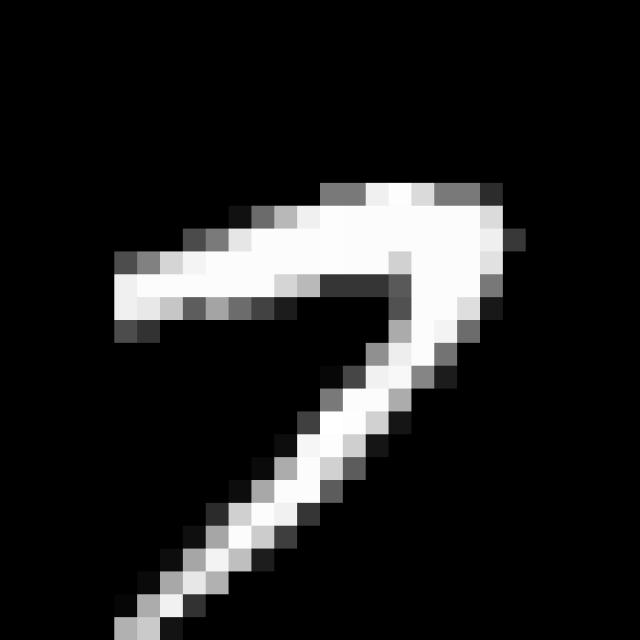seven -7-: (96, 164, 520, 640)
